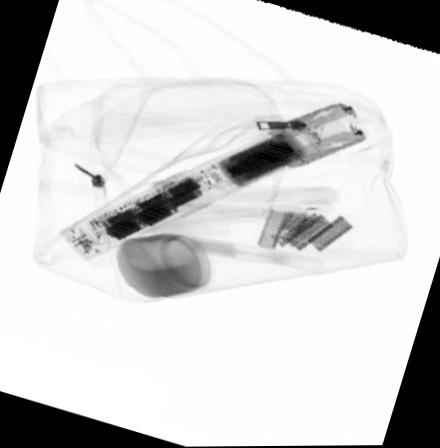Baton: (58, 97, 368, 265)
